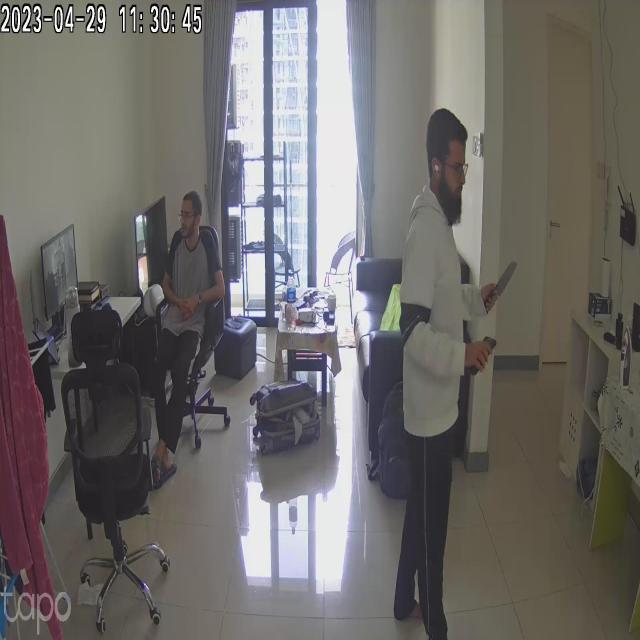Knife: (486, 246, 523, 312)
